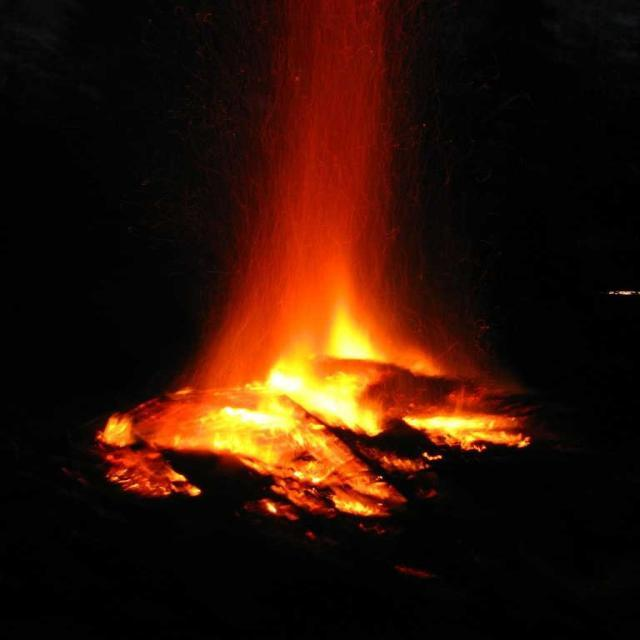Fire: (264, 314, 386, 388), (196, 392, 364, 444)
